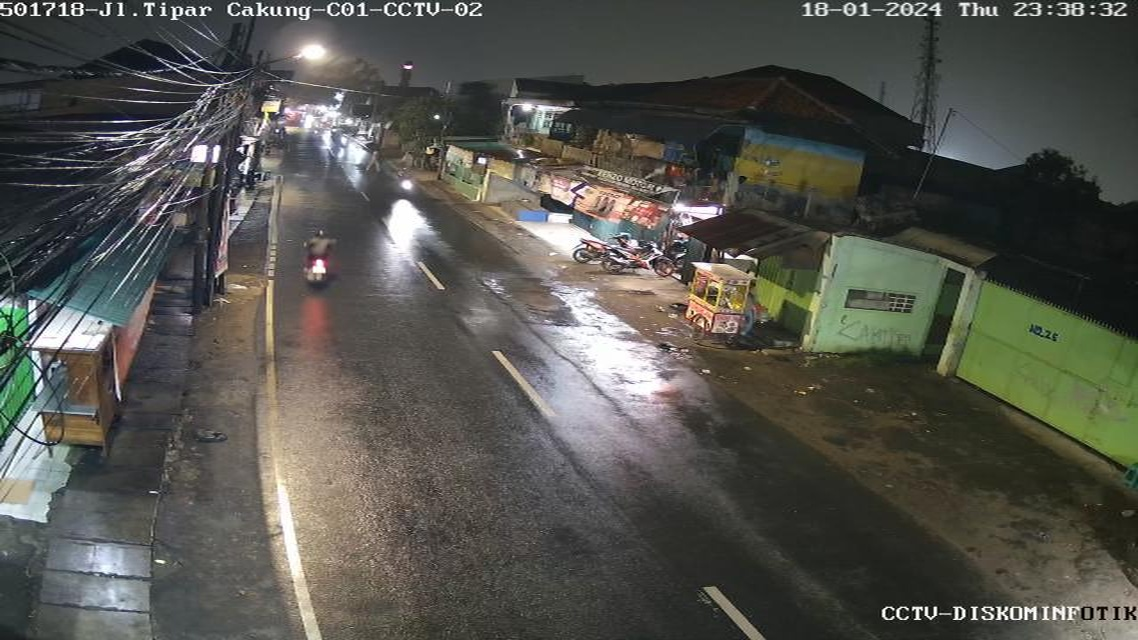Gerobak: (36, 303, 140, 451), (681, 256, 763, 356)
